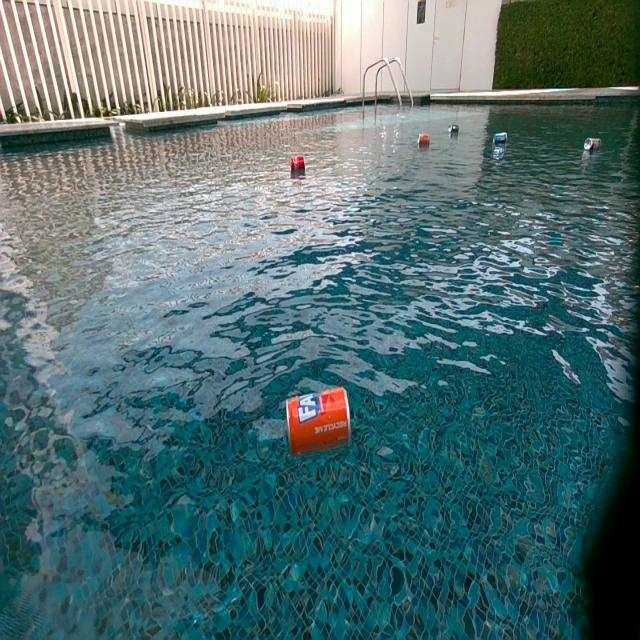Cans: (286, 389, 350, 462), (291, 387, 351, 427), (584, 137, 601, 153), (289, 158, 303, 174), (493, 134, 508, 148), (418, 134, 431, 148), (449, 122, 460, 133)
